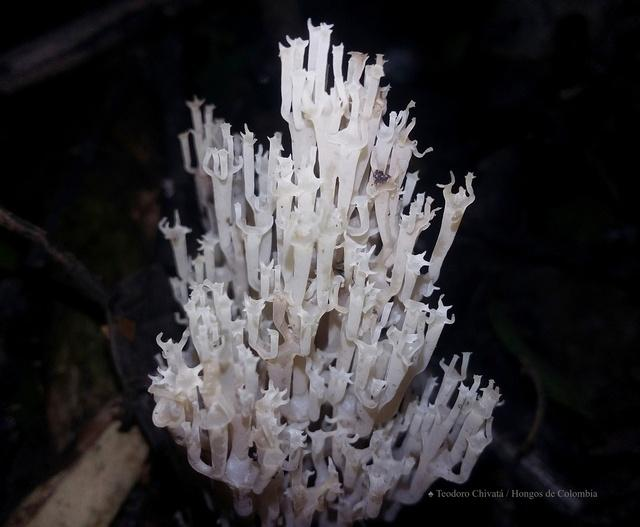Edible Mushroom: (145, 17, 505, 524)
